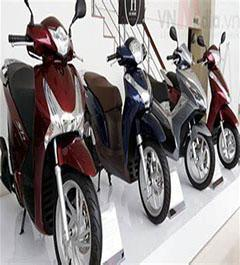motorcycle: (0, 2, 112, 260), (99, 21, 177, 231), (133, 24, 216, 205), (204, 17, 232, 172), (228, 92, 234, 92)
